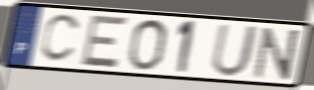1: (174, 18, 199, 76)
C: (38, 13, 84, 65)
E: (78, 13, 130, 70)
N: (251, 26, 303, 82)
O: (125, 18, 170, 72)
U: (209, 22, 261, 79)
